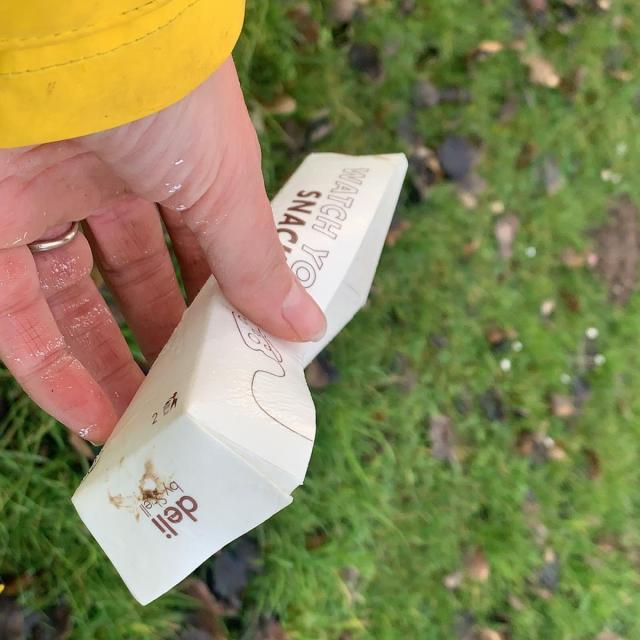Paper: (67, 146, 410, 610)
